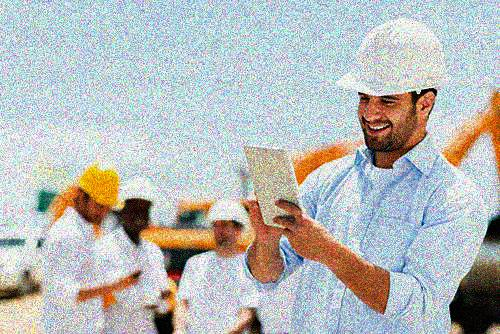helmet: (335, 16, 450, 153), (76, 161, 123, 226), (207, 196, 249, 251), (121, 173, 157, 235)
